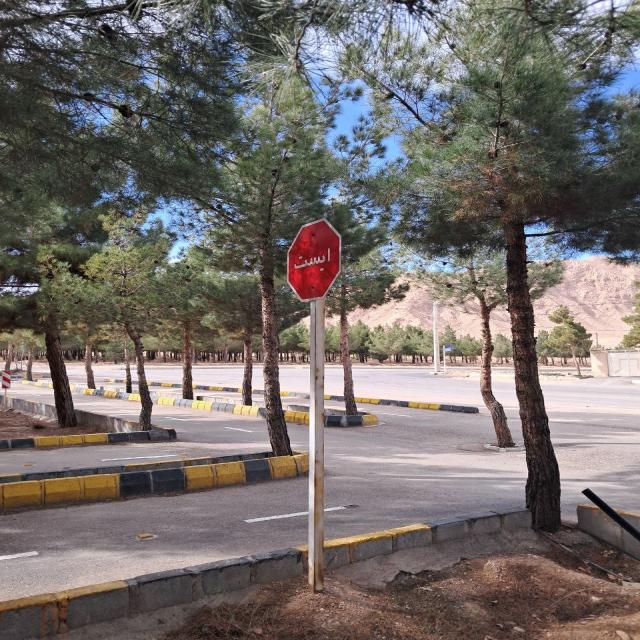stop: (278, 216, 349, 304)
